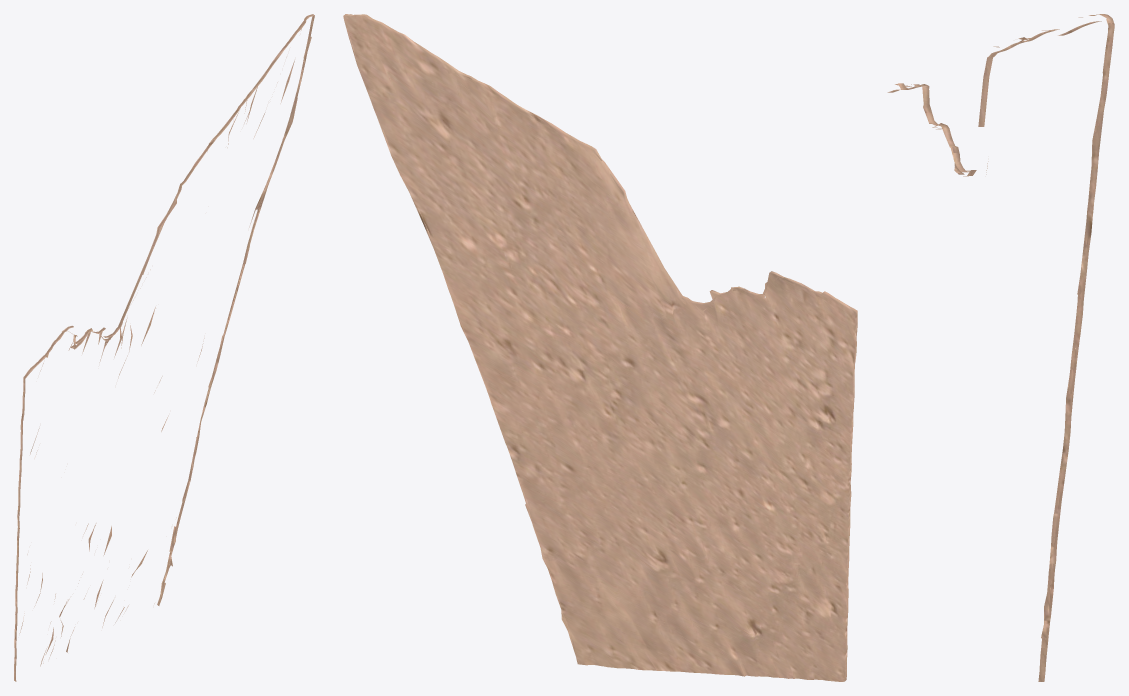
The picture shows the model from 3 angles, left to right: view 1: azimuth 30°, elevation 25°; view 2: azimuth 150°, elevation 25°; view 3: azimuth 270°, elevation 25°; orthographic projection. The views are drawn at different scales.
Size of the model in its own units: 1.04 by 1.46 by 0.3817.
1 material, 1 textured.
